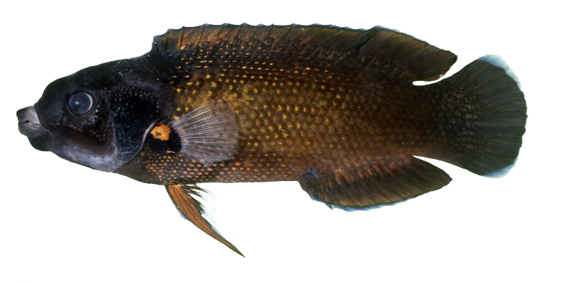fish: (16, 21, 527, 258)
